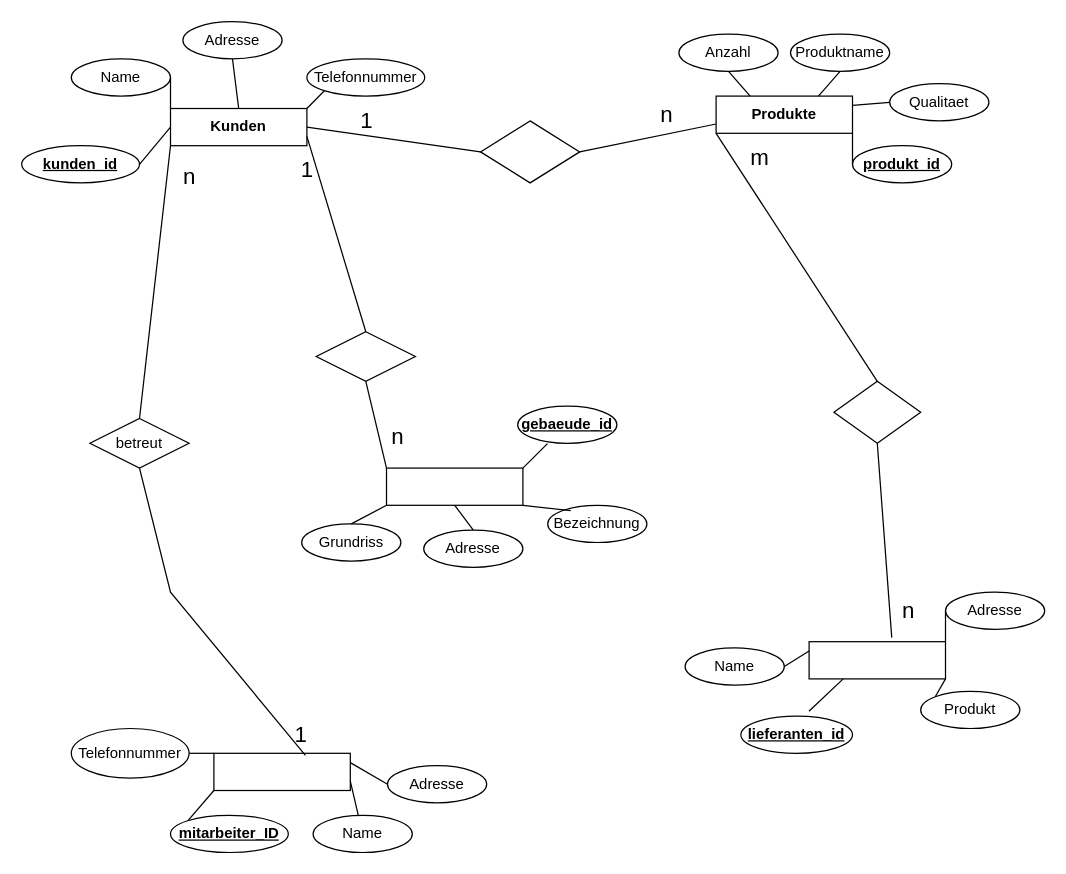
Some shapes in this 1066 by 874 pixel diagram are drawn without their labels. The shapes that lost their labels are listed below. From the top down, each one's centre as x and y in pixels, then its label:
At pixel 529 151: "besitzt".
At pixel 365 355: "gehört".
At pixel 877 411: "liefert".
At pixel 454 486: "Gebaeude".
At pixel 877 659: "Lieferanten".
At pixel 281 771: "Mitarbeiter".
